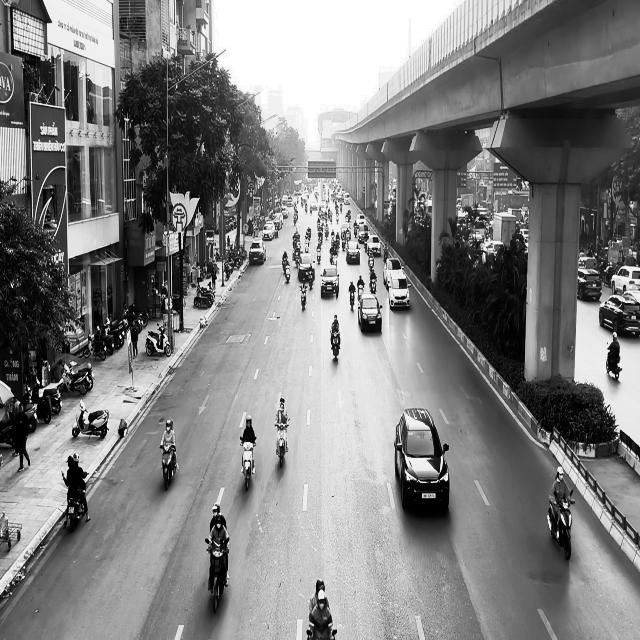car: (394, 407, 450, 510), (598, 291, 640, 336), (358, 293, 382, 332), (388, 272, 410, 309), (320, 265, 339, 299), (248, 238, 266, 265)
motorbike: (204, 537, 228, 613), (547, 493, 574, 560), (60, 468, 88, 532), (72, 399, 109, 439), (145, 321, 171, 357), (160, 443, 178, 491), (240, 437, 256, 491), (274, 421, 290, 467), (606, 344, 622, 380), (330, 330, 340, 360), (299, 284, 307, 310), (282, 260, 290, 282), (348, 289, 355, 310)
